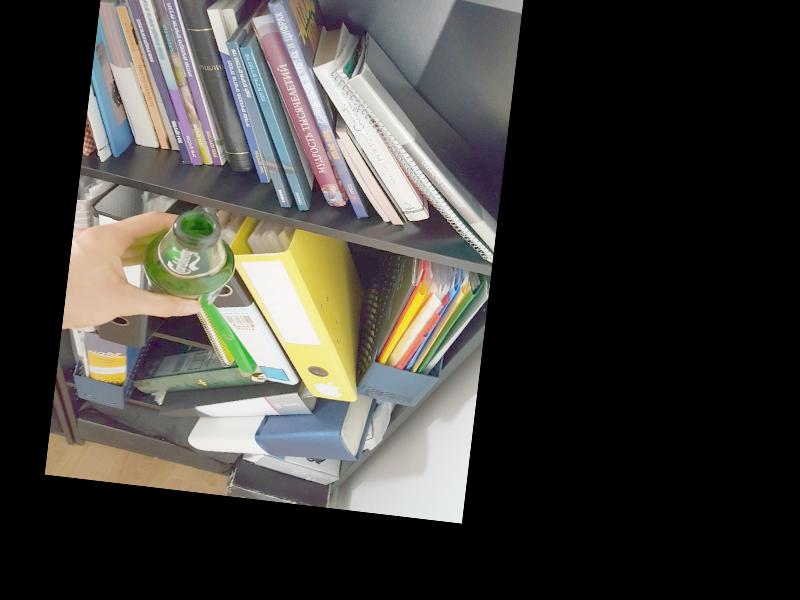Beer: (142, 207, 239, 311)
